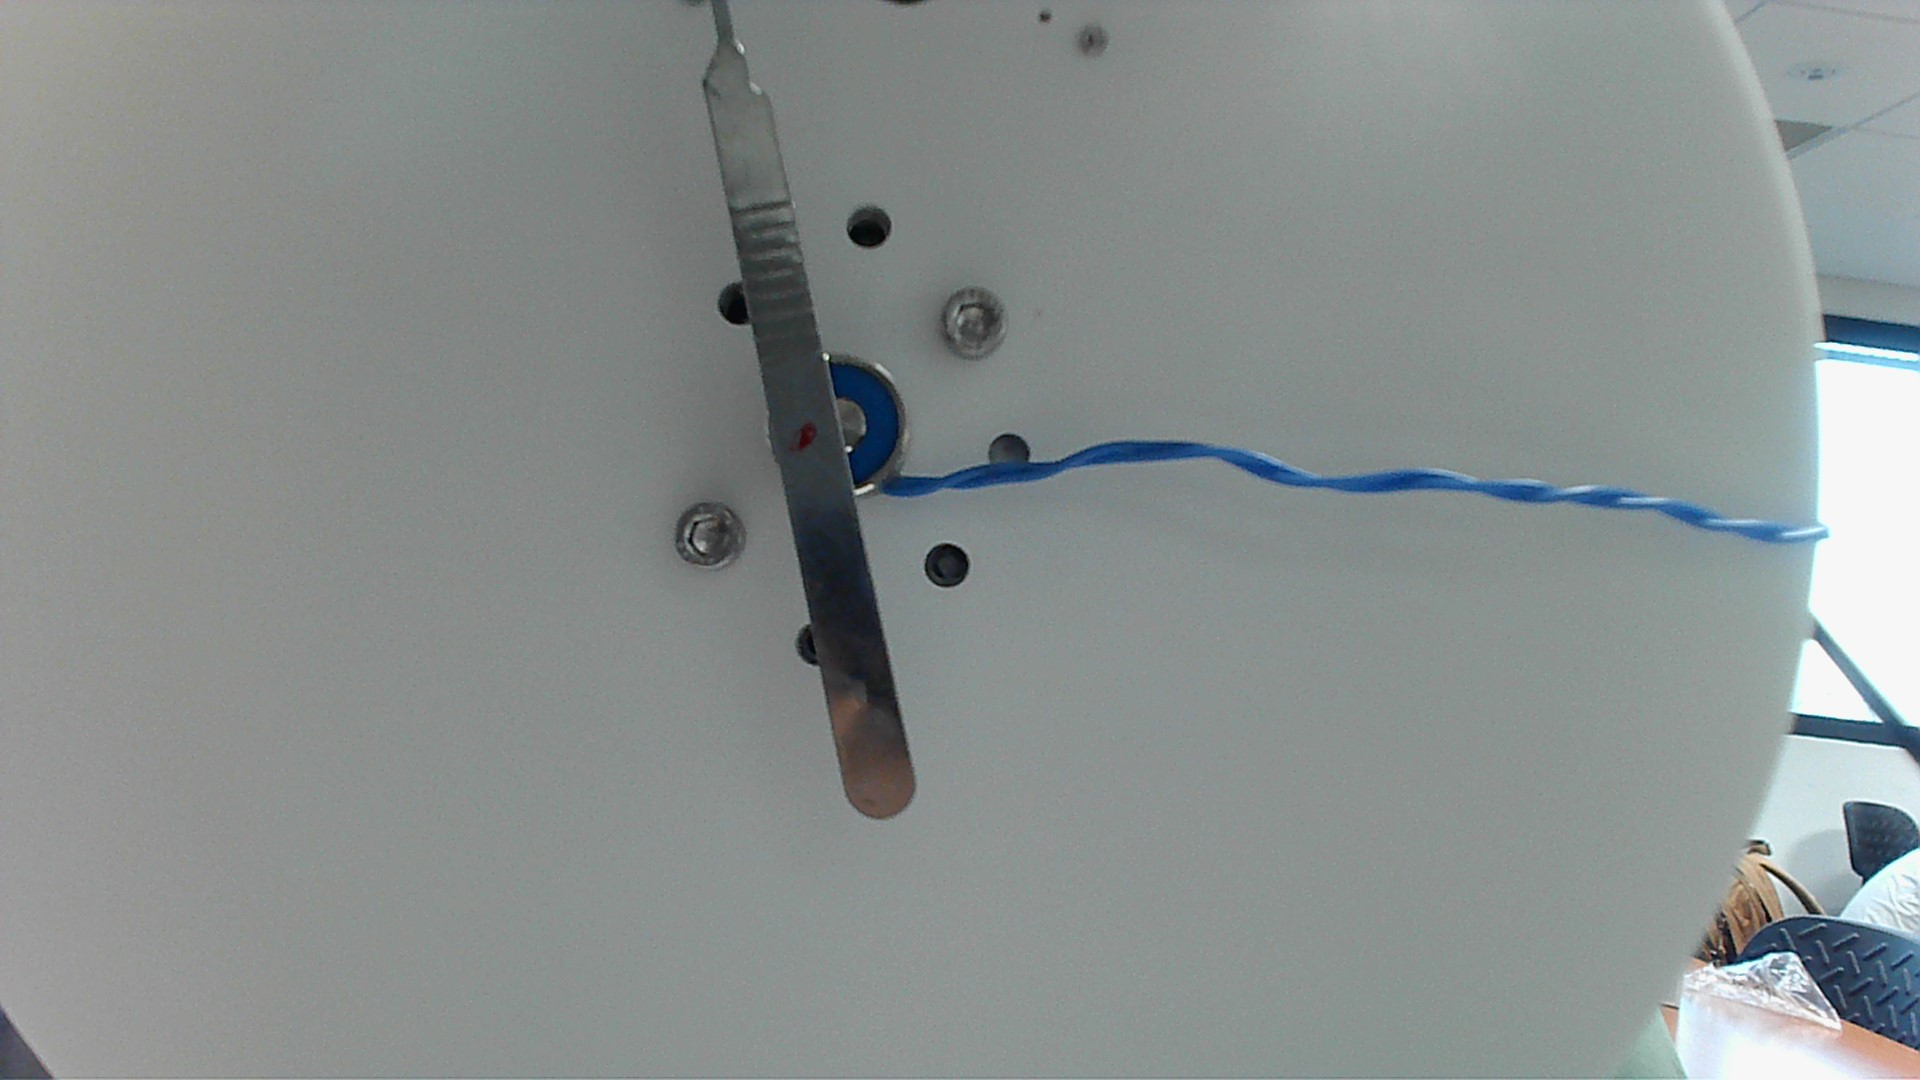Stain: (789, 419, 824, 452)
